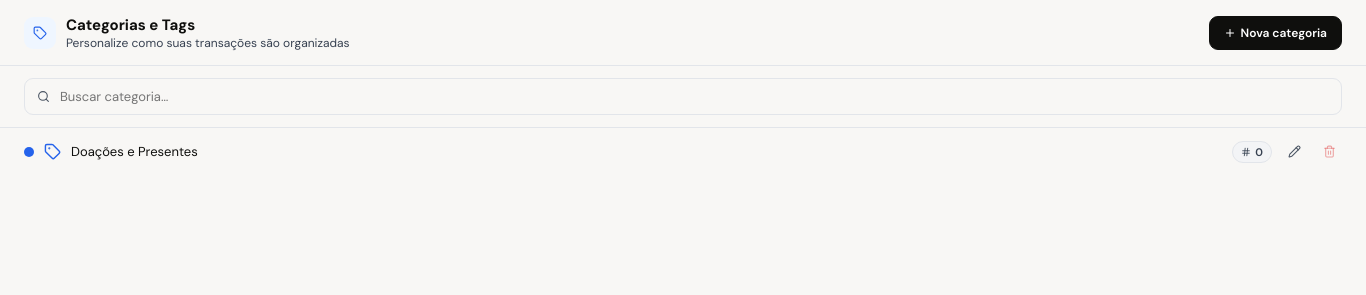
CategoriesTagsSettingsPanel › cria uma tag detalhe via Enter e recarrega a categoria com a tag persistida
Click the button named "Expandir tags de Doações e Presentes" at {"x": 1252, "y": 152}, box [1232,140,1272,162]
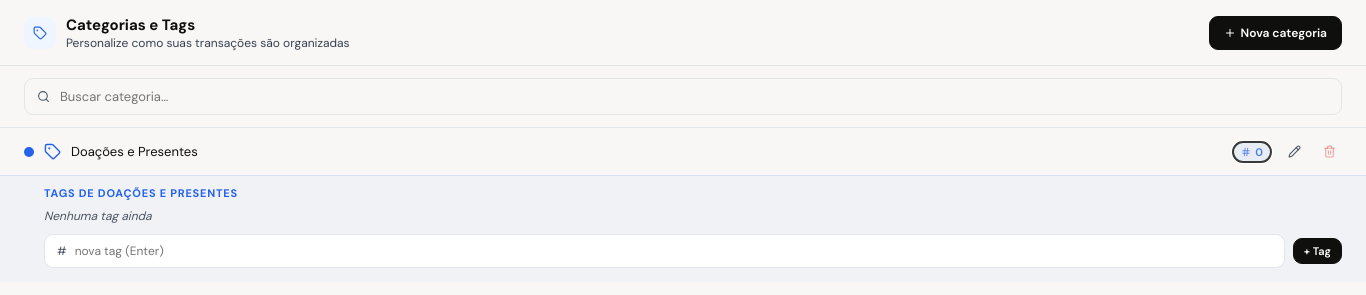
Type "Presente especial" into the field named "Nova tag de Doações e Presentes" at {"x": 672, "y": 251}, box [73,242,1272,260]
Then press Enter
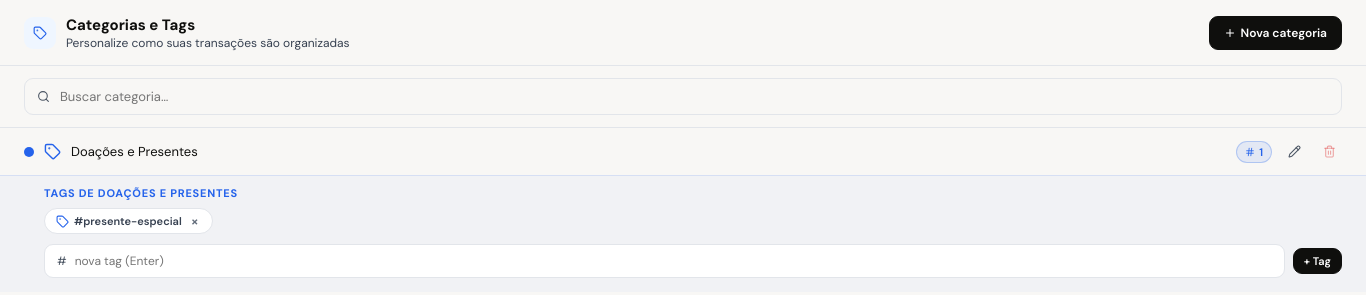
Now the button "#presente-especial" is shown, box [55,213,183,229]
